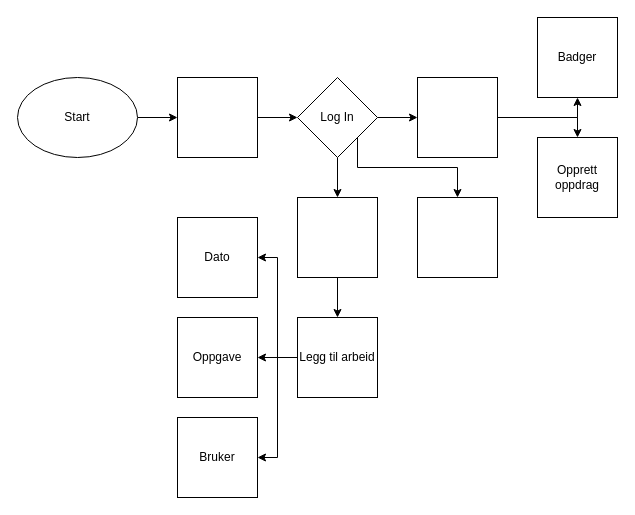
Image size: 635x515. Some labels were removed from this diagram. Each missing label, with the box of its shape:
Arbeid: (296, 196, 378, 278)
Hjem: (176, 76, 258, 158)
Oppdrag: (416, 76, 498, 158)
Statistikk: (416, 196, 498, 278)
